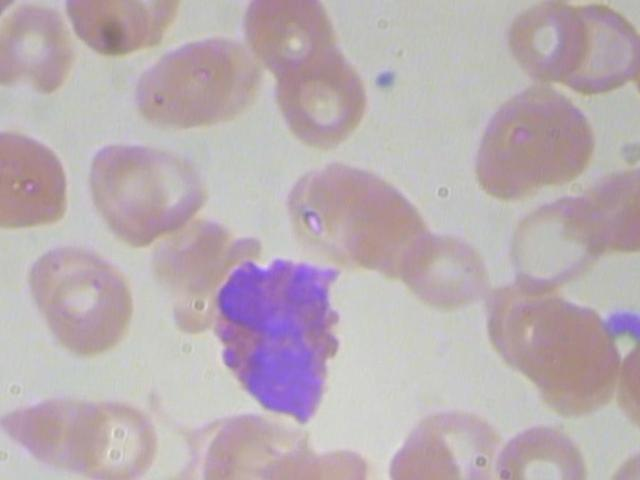Platelets: (91, 137, 218, 243), (376, 412, 470, 480)
RBC: (494, 178, 616, 310), (259, 38, 382, 155), (28, 255, 144, 372), (130, 28, 246, 144), (229, 0, 349, 95), (0, 132, 86, 245), (398, 225, 496, 318), (480, 413, 603, 480), (48, 0, 163, 69), (0, 0, 40, 91), (499, 0, 640, 17), (0, 118, 15, 231), (0, 0, 32, 43)
WBC: (457, 66, 613, 227)
